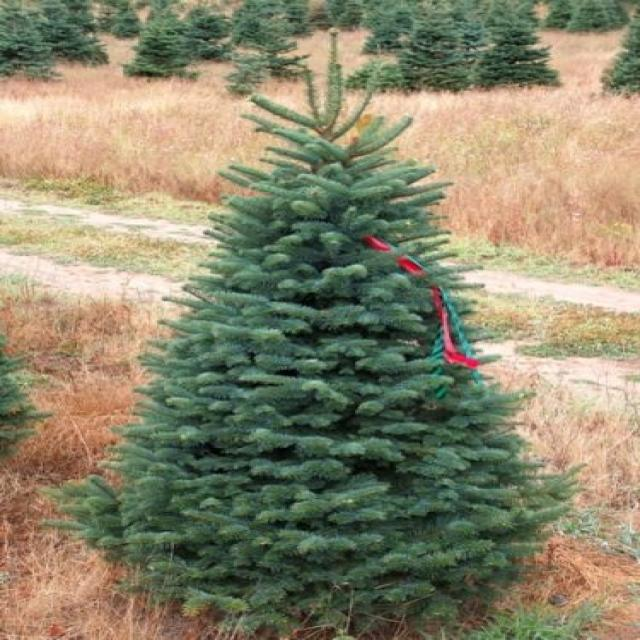Abies: (61, 26, 584, 624)
